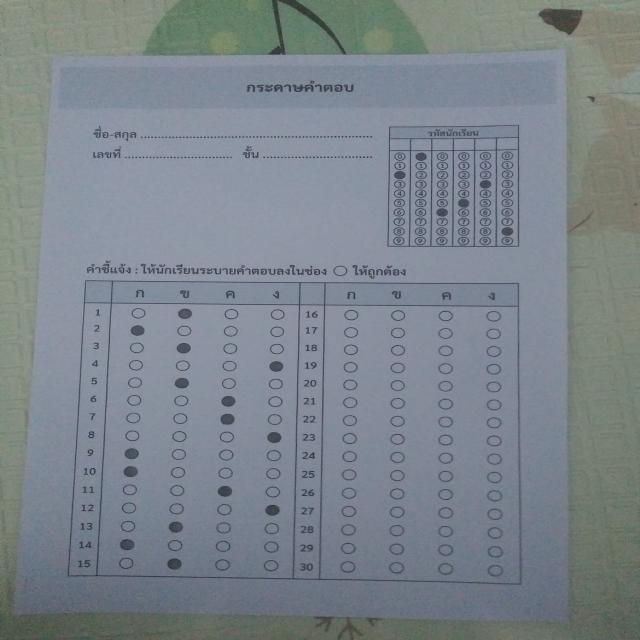Choice: (55, 272, 538, 592)
ID: (376, 115, 534, 257)
